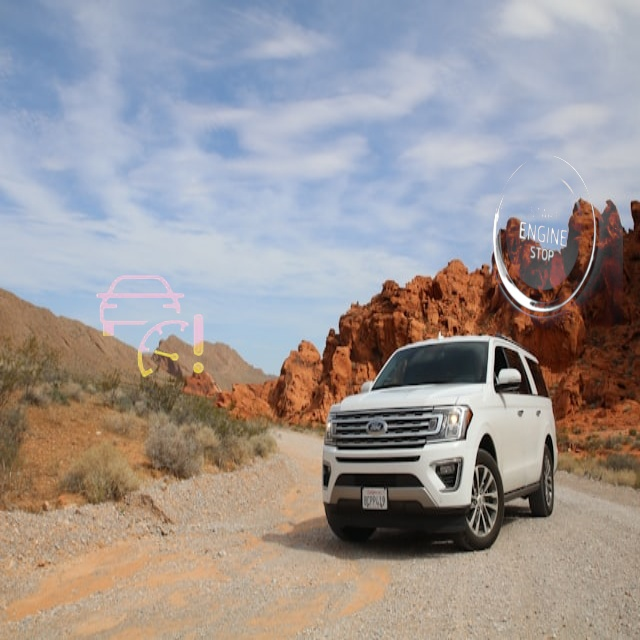symbol: (423, 136, 623, 336), (76, 253, 223, 400)
